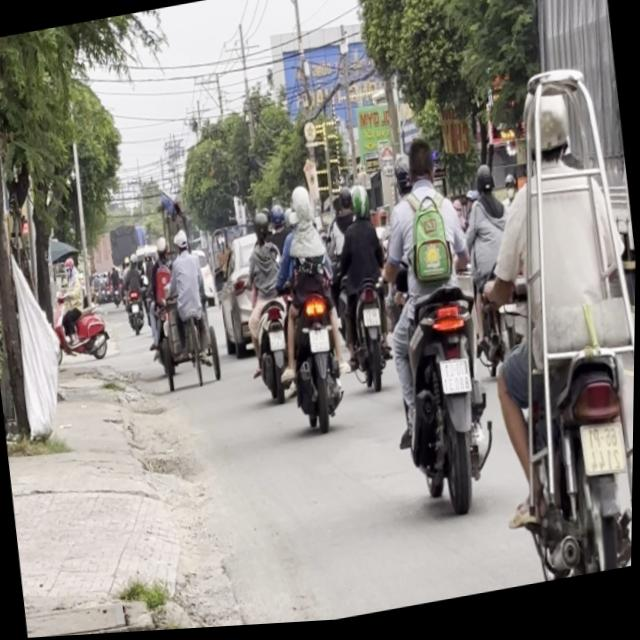helmet: (516, 88, 577, 180), (393, 156, 416, 202), (292, 203, 317, 240), (350, 185, 373, 224), (475, 166, 497, 199), (290, 185, 312, 211)
licenseplate: (453, 64, 639, 595), (362, 123, 507, 528), (265, 175, 357, 438), (454, 162, 531, 387), (325, 182, 404, 399)
motorcyclist: (404, 137, 439, 192)
nohelmet: (580, 426, 629, 485), (441, 362, 474, 401), (310, 331, 331, 356), (364, 311, 381, 331)
